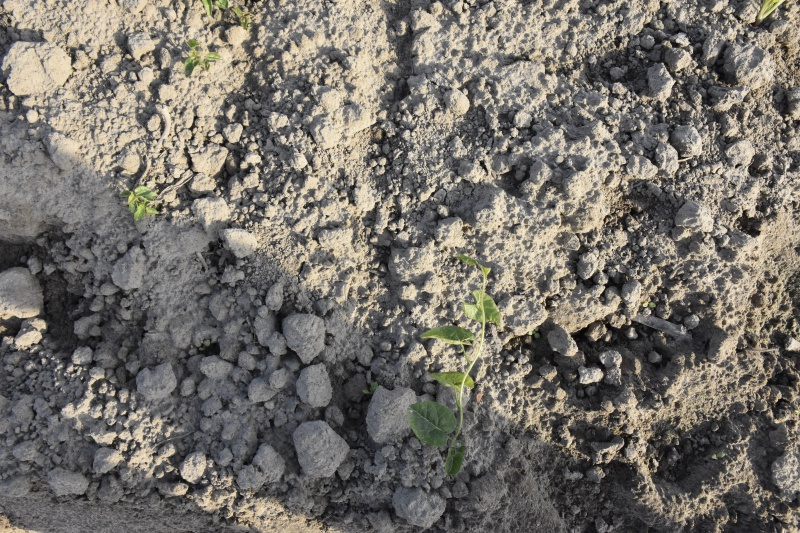field bindweed: (406, 253, 497, 479), (196, 1, 263, 31), (182, 38, 225, 74), (126, 182, 160, 225)
